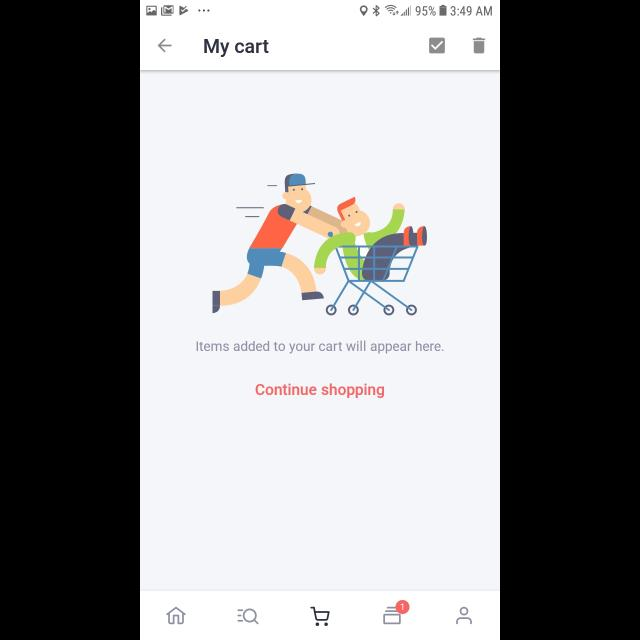icon: (382, 600, 410, 624), (310, 606, 330, 626), (168, 606, 186, 624), (238, 608, 258, 624), (456, 607, 472, 625), (429, 38, 445, 54), (472, 38, 486, 54), (158, 39, 172, 53)
image: (212, 174, 428, 316)
text: (196, 341, 444, 355), (256, 384, 384, 398), (204, 39, 268, 57)
uppertaskbar: (140, 1, 500, 18)
